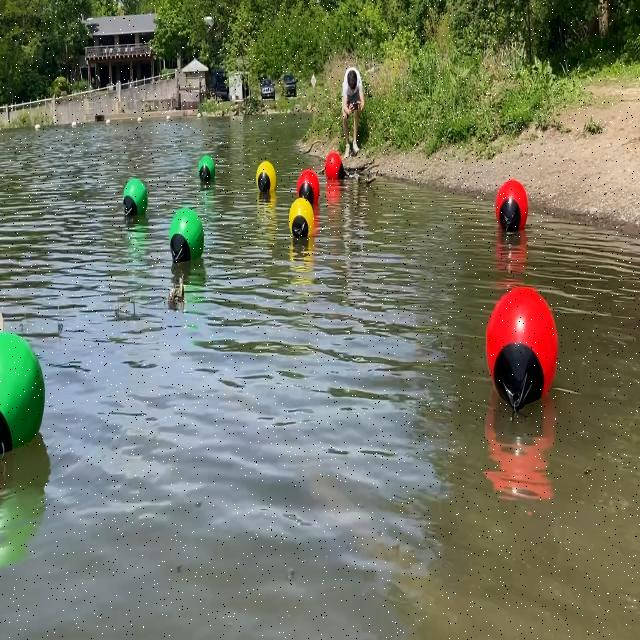buoy: (484, 280, 560, 412), (0, 331, 45, 458), (496, 177, 530, 242), (170, 206, 206, 266), (122, 176, 148, 219), (290, 198, 314, 244), (296, 167, 321, 206), (254, 159, 276, 196), (325, 149, 346, 183), (197, 153, 216, 183)
